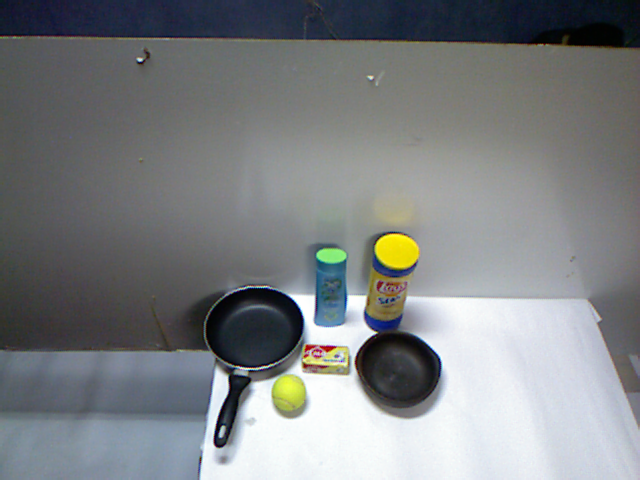cera: (318, 240, 375, 348)
cloroplano: (384, 264, 465, 380)
esponja: (284, 354, 332, 415)
linterna: (231, 322, 278, 393)
mantequilla: (347, 372, 409, 416)
yogurt: (261, 242, 314, 351)
